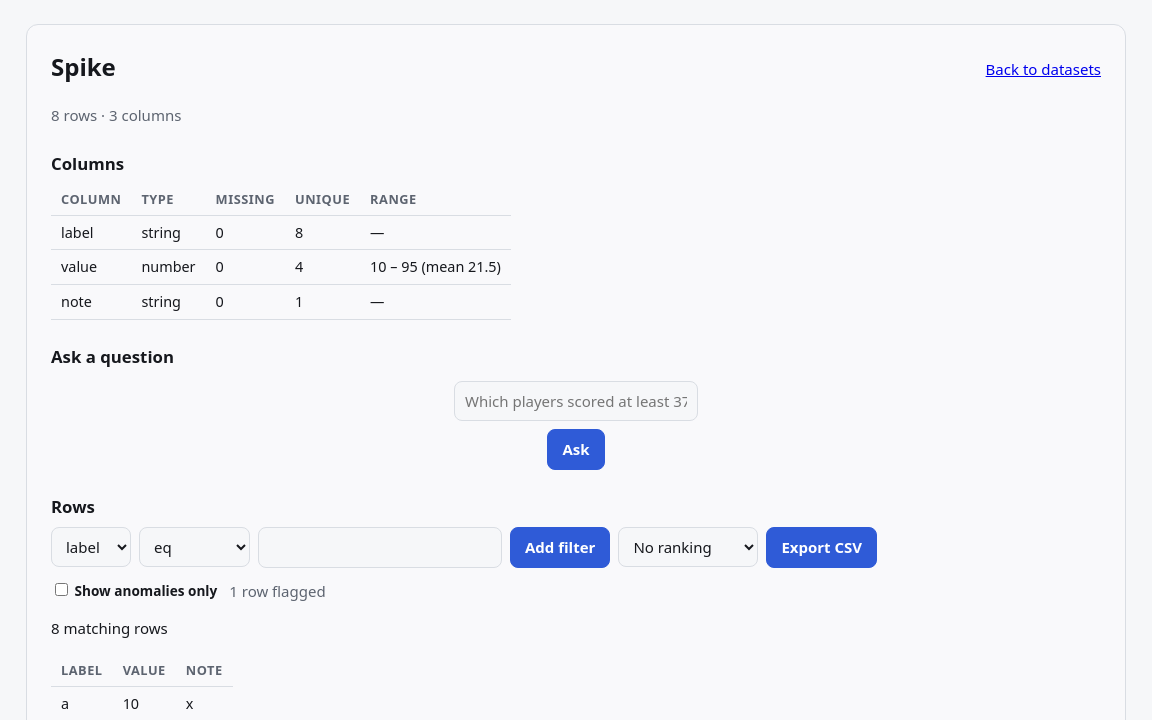
Test: filter builder › adds a filter chip, sends it to the rows endpoint and shows the narrowed table
Expected: the text "8 matching rows" is shown, [51,618,168,638]
Select "value" in the dropdown with test id "filter-column" at (91, 547), box [51,527,131,567]
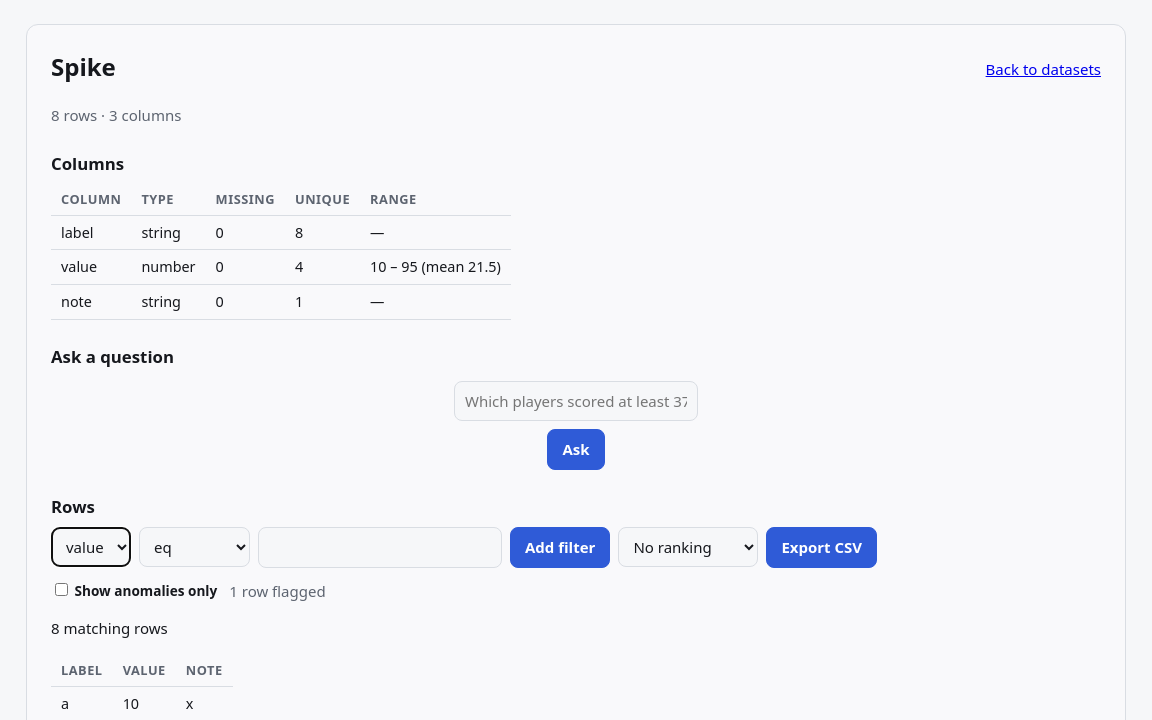
Select "gte" in the dropdown with test id "filter-operator" at (194, 547), box [139,527,250,567]
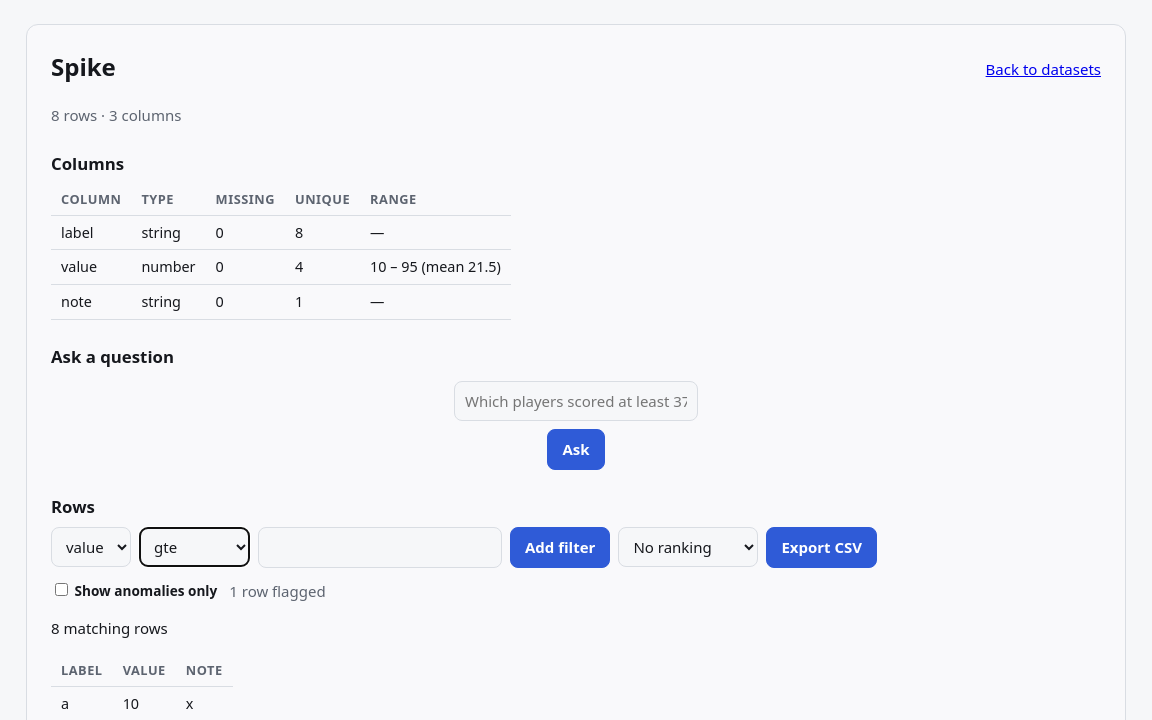
Type "  12 " into the field with test id "filter-value" at (380, 547), box [258,527,502,568]
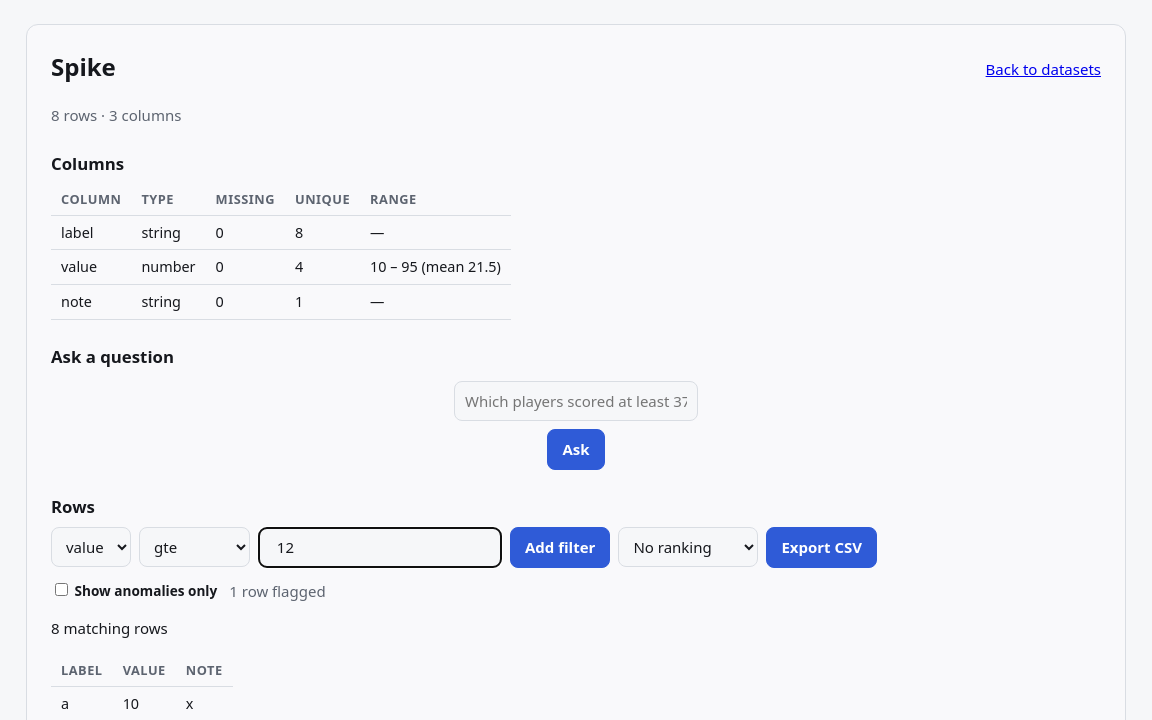
Click the button with test id "add-filter" at (560, 547), box [510,527,610,568]
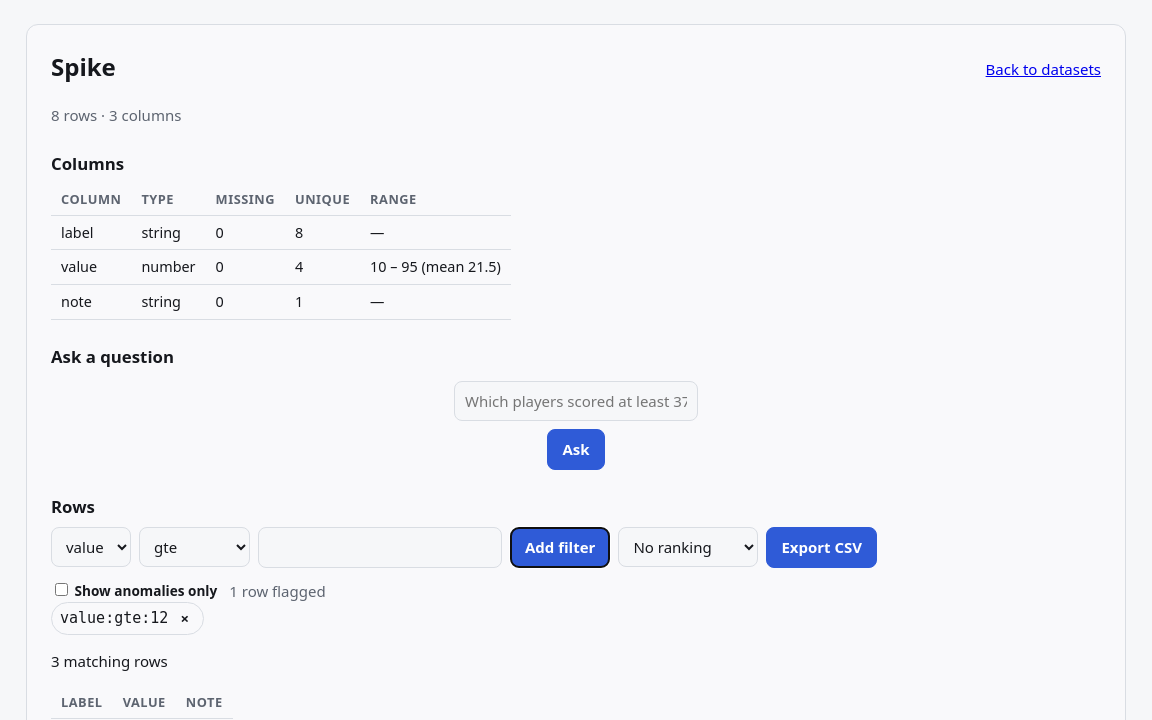
Result: the text "value:gte:12" is shown at [60,607,168,630]
Result: the text with test id "row-count" reads "3 matching rows" at [51,651,168,671]
Result: the field with test id "filter-value" is empty at [258,527,502,568]
